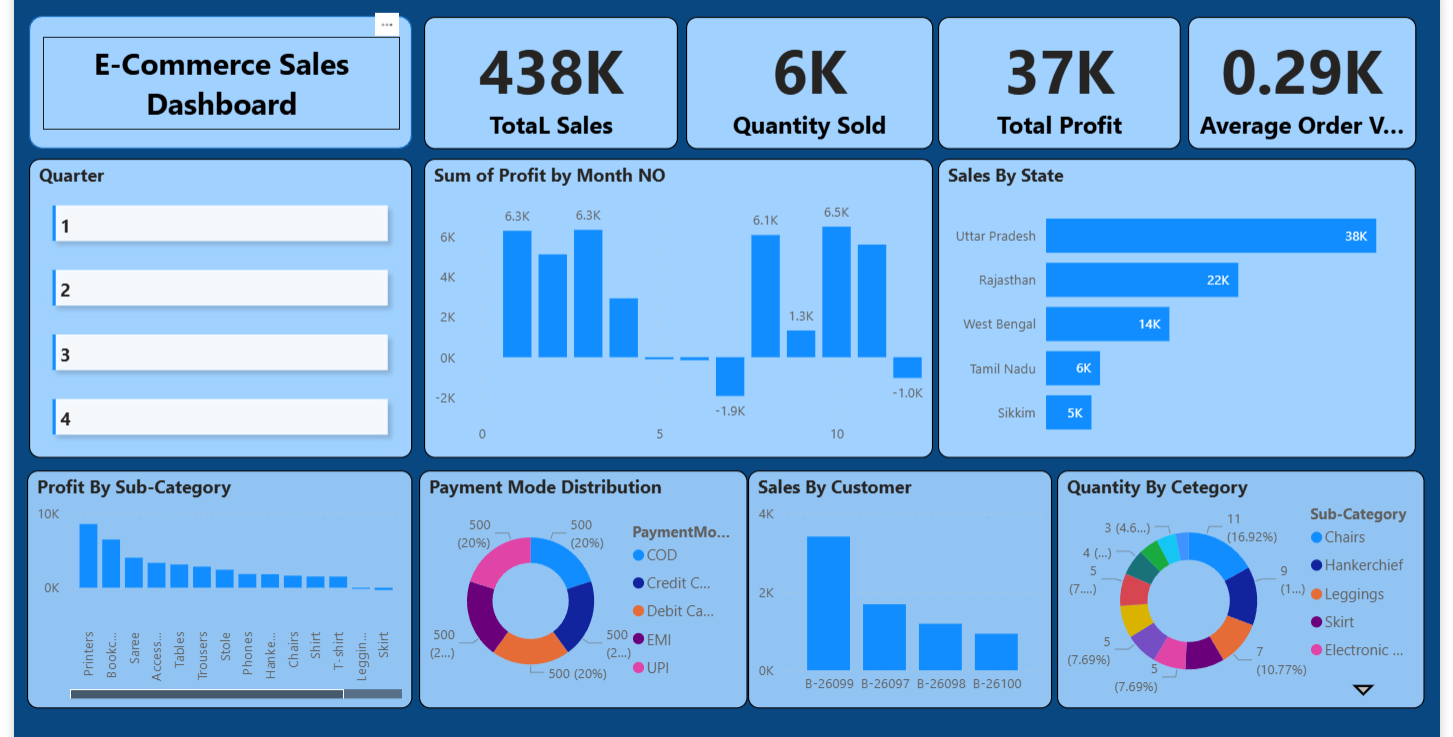

Layout of this report page (visuals, bound fields, positions):
{"tool":"powerbi","page":{"name":"Page 1","canvas":[1280,720],"ordinal":0},"visuals":[{"type":"card","fields":{"Values":["Details.TotaL Sales"]},"box":[368.1,24.2,228,119.4],"z":0},{"type":"shape","box":[13.5,23.3,343.8,119.4],"z":1000},{"type":"textbox","box":[26,42.2,320.5,83.5],"z":2000},{"type":"card","fields":{"Values":["Details.Quantity Sold"]},"box":[603.3,24.2,221.7,119.4],"z":3000},{"type":"card","fields":{"Values":["Sum(Details.Profit)"]},"box":[829.5,24.2,218.2,119.4],"z":4000},{"type":"card","fields":{"Values":["Details.Average Order Value"]},"box":[1054,24.2,204.7,119.4],"z":5000},{"type":"columnChart","fields":{"Category":["Customer Details.Month NO"],"Y":["Sum(Details.Profit)"]},"box":[368.1,151.7,457,269.3],"z":6000},{"type":"advancedSlicerVisual","fields":{"Values":["Customer Details.Quarter"]},"box":[13.5,151.7,343.8,269.3],"z":7000},{"type":"clusteredBarChart","title":"Sales By State","fields":{"Category":["Customer Details.State"],"Y":["Sum(Details.Amount)"]},"box":[829.5,151.7,429.1,269.3],"z":8000},{"type":"donutChart","title":"Payment Mode Distribution","fields":{"Category":["Details.PaymentMode"],"Y":["CountNonNull(Customer Details.Order ID)"]},"box":[363.6,431.8,295.4,213.7],"z":9000},{"type":"columnChart","title":"Sales By Customer","fields":{"Category":["Customer Details.Order ID"],"Y":["Details.TotaL Sales"]},"box":[659,431.8,272.9,213.7],"z":10000},{"type":"donutChart","title":"Quantity By Cetegory","fields":{"Category":["Details.Sub-Category"],"Y":["Details.Quantity Sold"]},"box":[936.4,431.8,330.4,213.7],"z":11000},{"type":"columnChart","title":"Profit By Sub-Category","fields":{"Category":["Details.Sub-Category"],"Y":["Sum(Details.Profit)"]},"box":[11.7,431.8,345.6,213.7],"z":12000}]}

Visuals, with their boxes on the page's 1280x720 design canvas (x1, y1, x2, y2). These are canvas units, not pixel positions in the 1453x737 screenshot, which may show the page scaled, cropped or inside an application window:
card - Details.TotaL Sales: (368,24,596,144)
shape: (14,23,357,143)
textbox: (26,42,346,126)
card - Details.Quantity Sold: (603,24,825,144)
card - Sum(Details.Profit): (830,24,1048,144)
card - Details.Average Order Value: (1054,24,1259,144)
columnChart - Customer Details.Month NO x Sum(Details.Profit): (368,152,825,421)
advancedSlicerVisual - Customer Details.Quarter: (14,152,357,421)
"Sales By State" clusteredBarChart: (830,152,1259,421)
"Payment Mode Distribution" donutChart: (364,432,659,646)
"Sales By Customer" columnChart: (659,432,932,646)
"Quantity By Cetegory" donutChart: (936,432,1267,646)
"Profit By Sub-Category" columnChart: (12,432,357,646)
